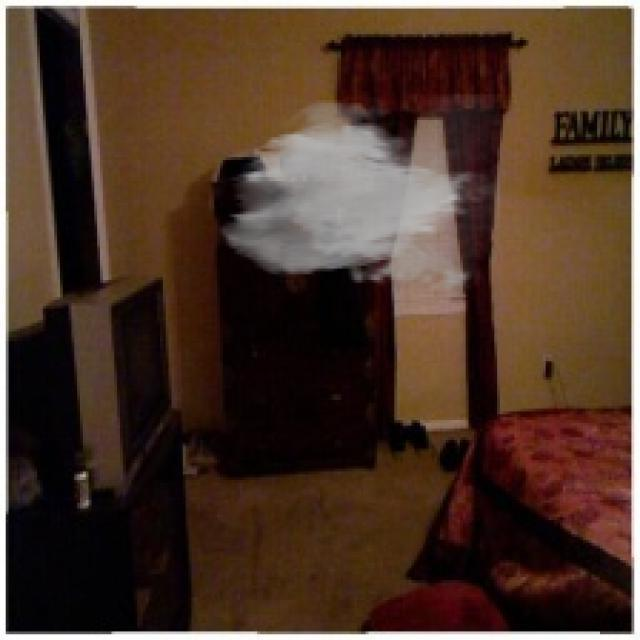Smoke: (217, 94, 500, 297)
